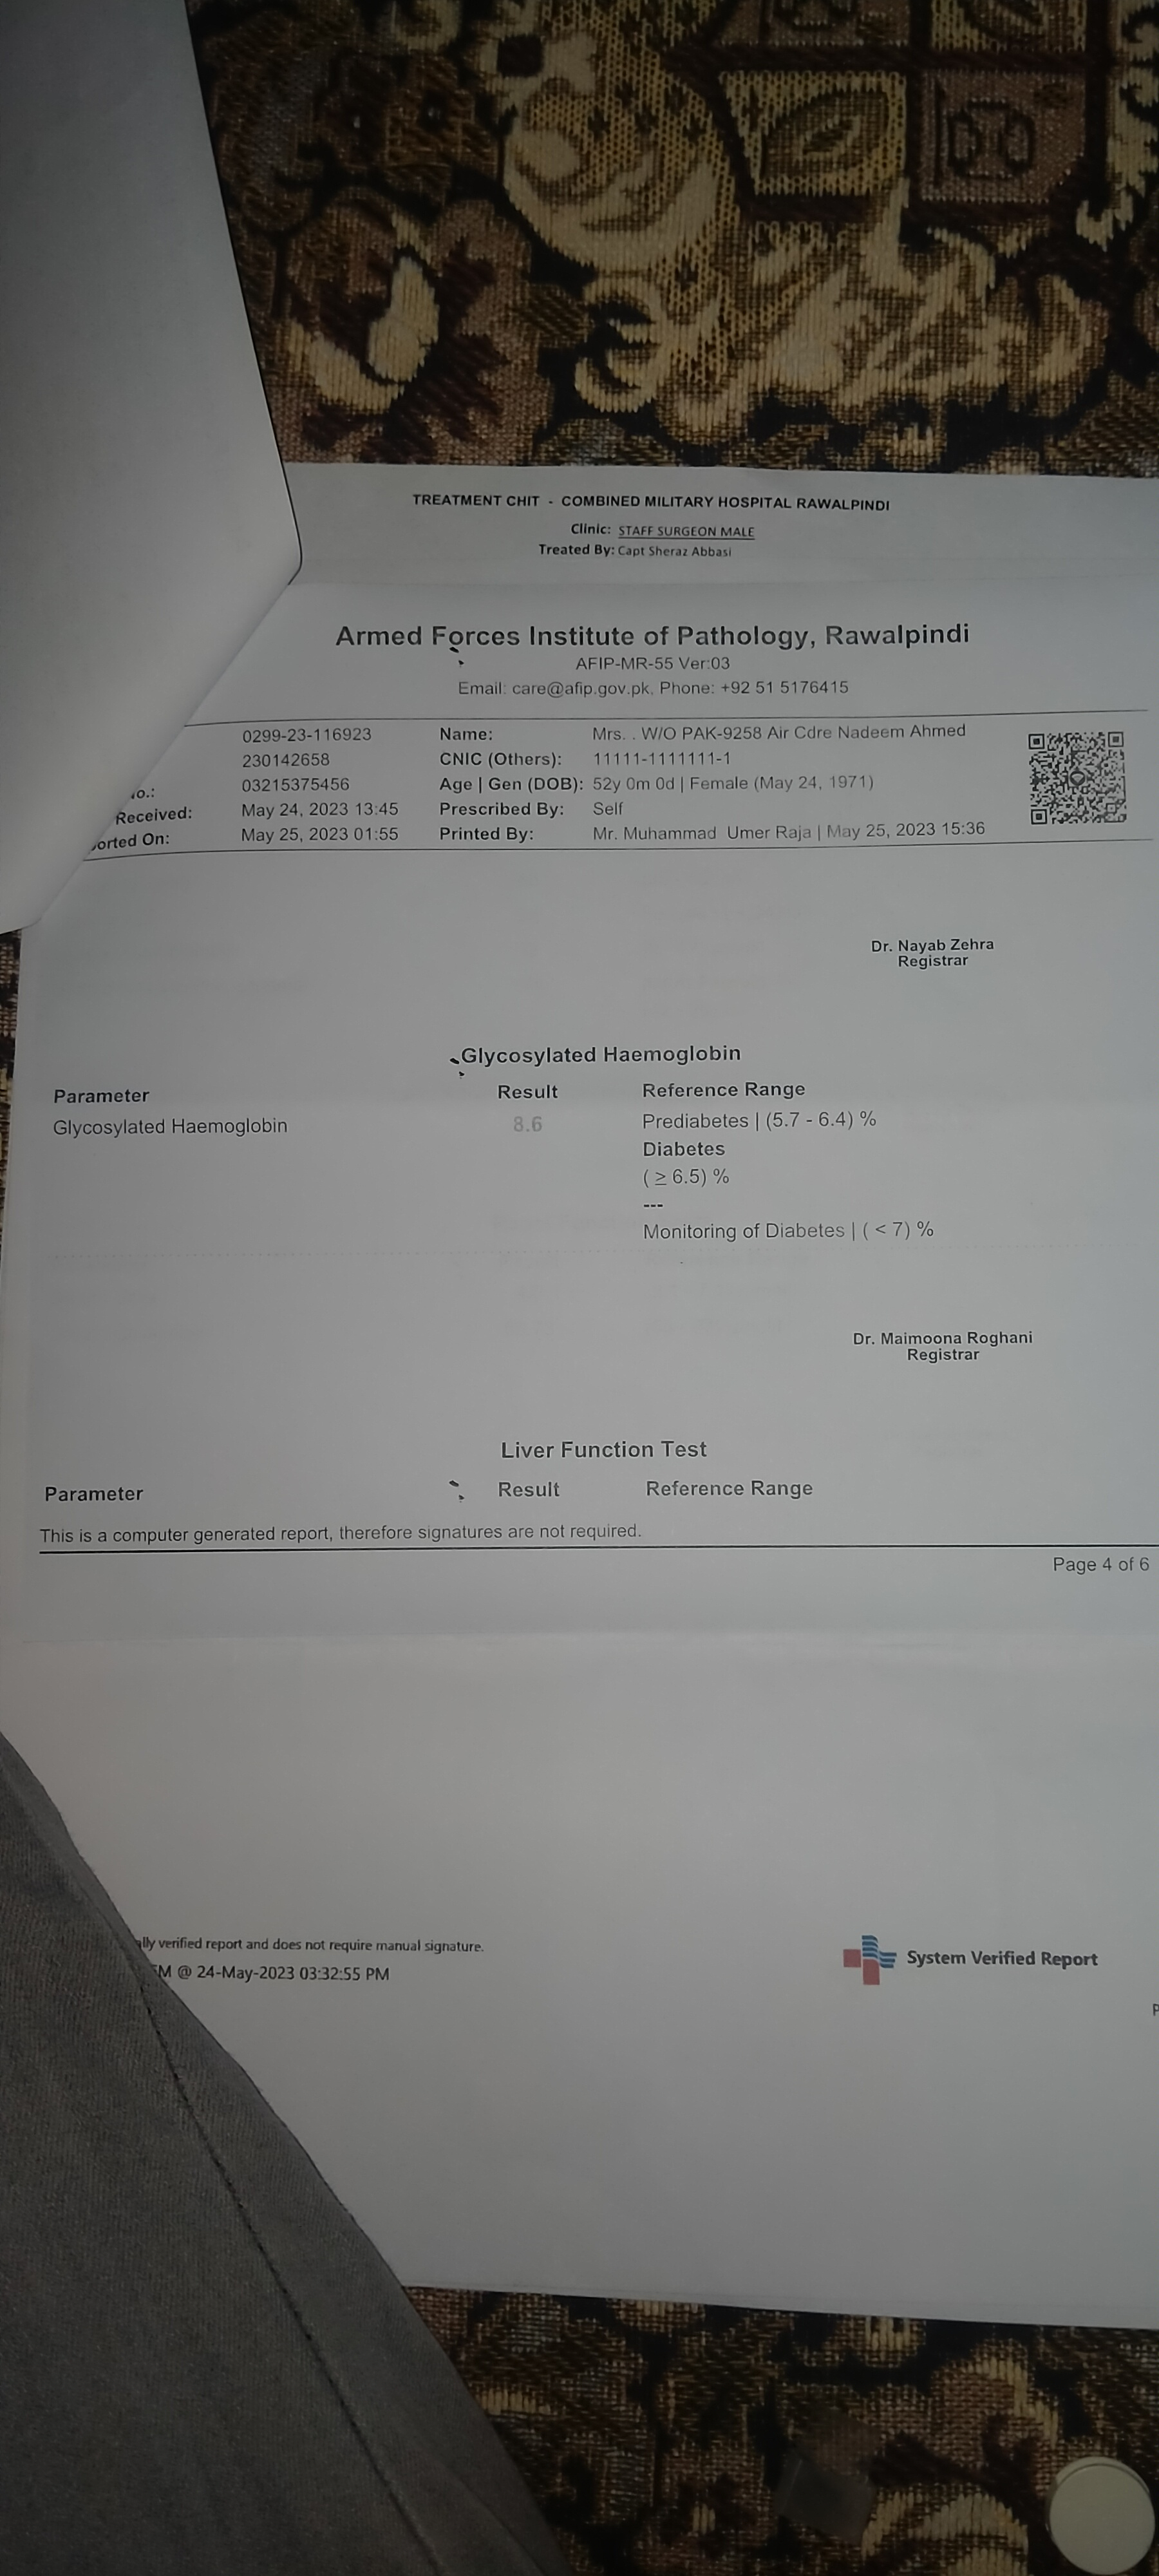report: (28, 1030, 1116, 1525)
